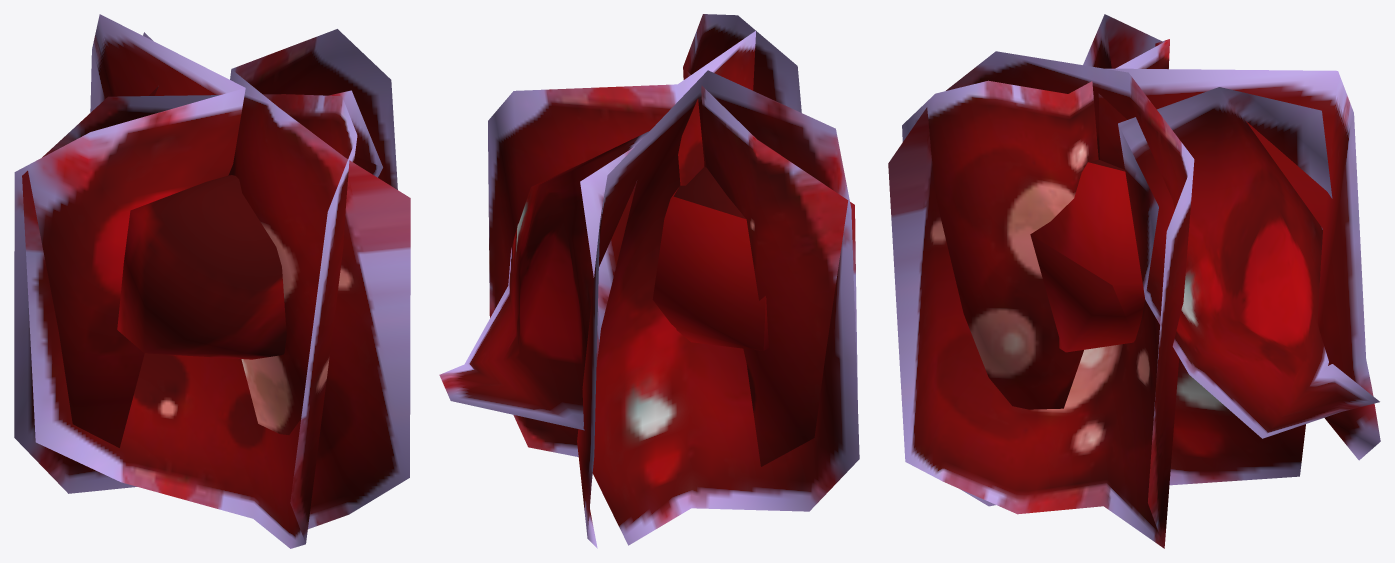
Rendered from Zombie_Broken_Nurse_Head02_d6e56e5d__Zombie_Broken_Purple_cee75a00_c1f257.obj.
3 views of the same model, side by side, from view 1: azimuth 30°, elevation 25°; view 2: azimuth 150°, elevation 25°; view 3: azimuth 270°, elevation 25° (orthographic). The views are drawn at different scales.
Size of the model in its own units: 0.6819 by 0.7392 by 0.7311.
1 material, 1 textured.
